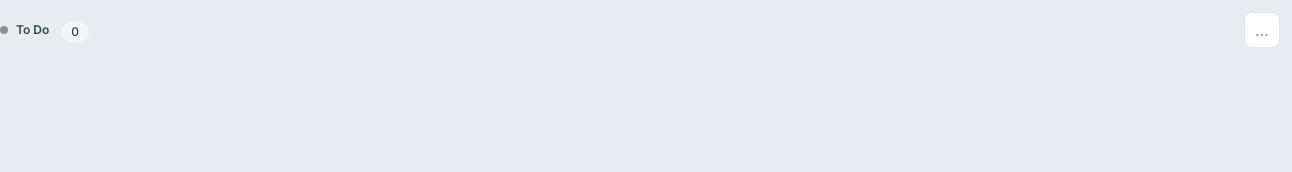
Test case: ColumnHeader › column actions menu › exposes haspopup/expanded and opens on click
Click the button named "Column actions for To Do": (1262, 30) [1244,12,1280,48]
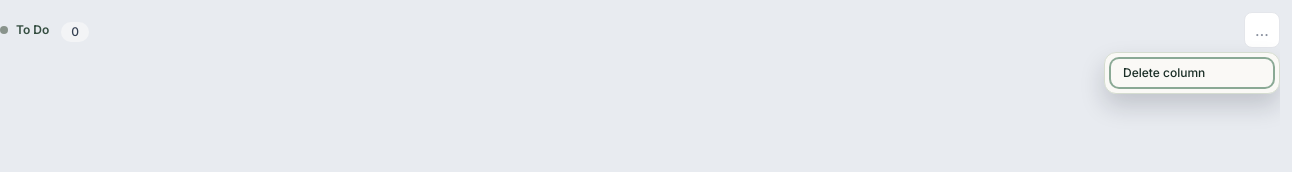
Expected: the menu is shown, [1104,52,1280,94]
